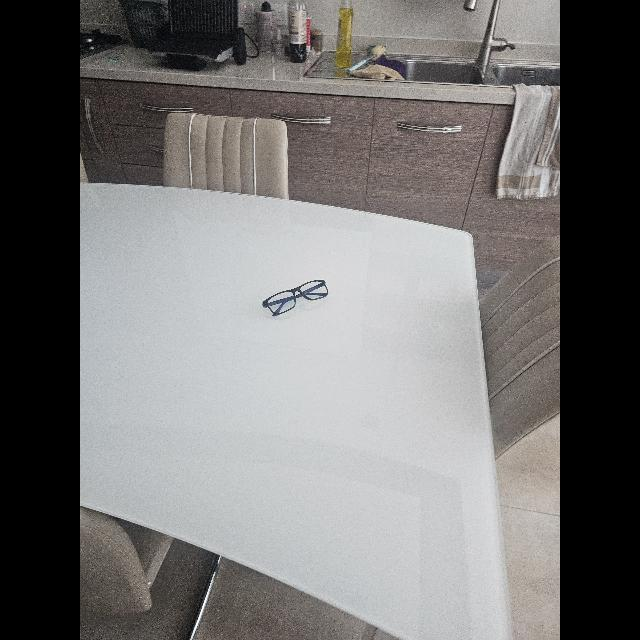glasses: (262, 280, 328, 316)
